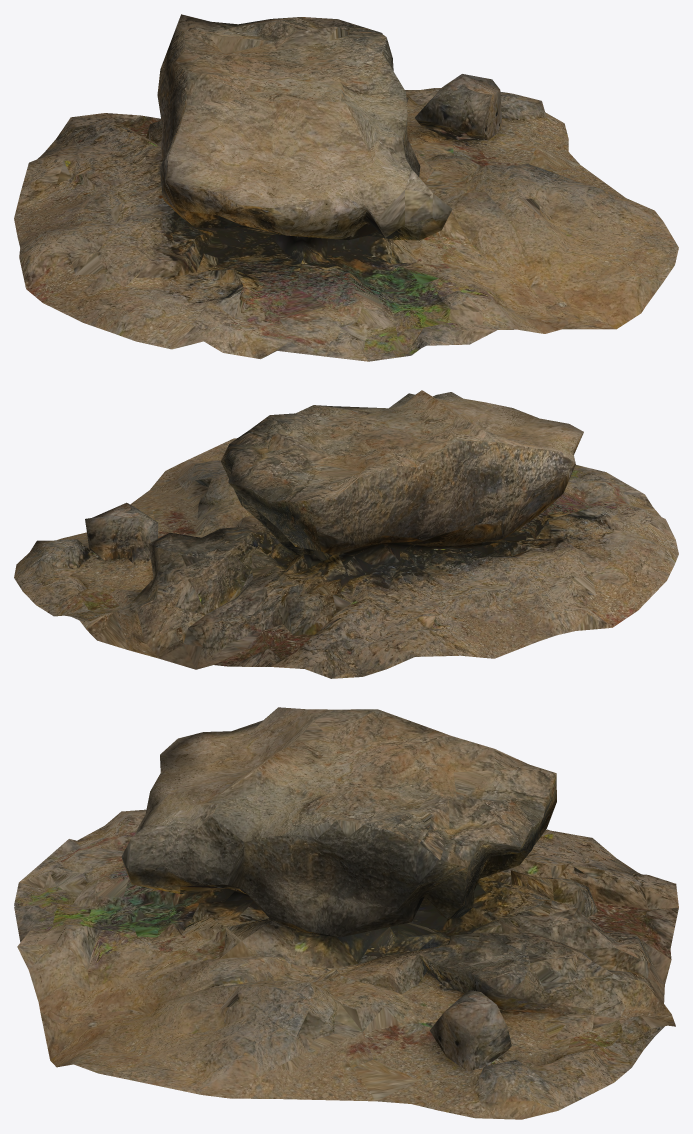
The model's file is roca_dos.glb.
3 renders of one model, top to bottom at view 1: azimuth 30°, elevation 25°; view 2: azimuth 150°, elevation 25°; view 3: azimuth 270°, elevation 25°, orthographic. The views are drawn at different scales.
Visible parts, largest first — view 1: coast_rocks_05_LOD0; view 2: coast_rocks_05_LOD0; view 3: coast_rocks_05_LOD0.
Part boxes in pixels (x1,y1,x2,y2): coast_rocks_05_LOD0: [14, 14, 678, 361]; coast_rocks_05_LOD0: [14, 390, 678, 678]; coast_rocks_05_LOD0: [14, 707, 678, 1119].
Size of the model in its own units: 3.03 by 1.01 by 2.82.
Materials: 1 (1 with a texture image).
